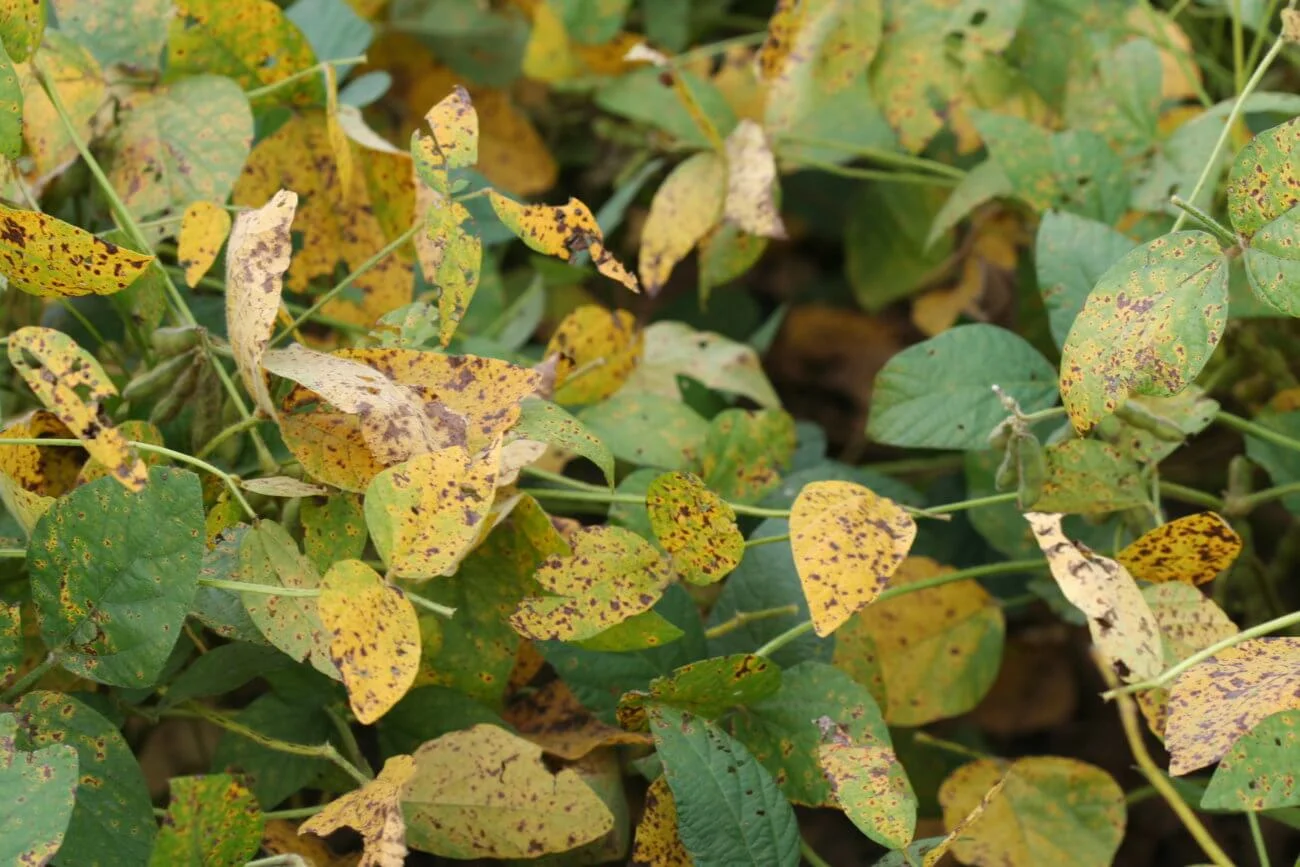healthy: (858, 323, 1058, 448)
leaf scorch(50%): (27, 464, 210, 692), (1061, 227, 1226, 433), (0, 689, 168, 866), (742, 663, 912, 823), (642, 698, 802, 866), (1196, 708, 1300, 814)
leaf scorch(90%): (271, 342, 551, 494), (817, 545, 1003, 728), (385, 723, 617, 860), (3, 327, 161, 493), (793, 474, 917, 642), (511, 517, 673, 641), (1165, 628, 1300, 771), (361, 443, 498, 582), (223, 186, 299, 429), (313, 557, 423, 722), (480, 182, 639, 291), (0, 194, 161, 300), (634, 144, 732, 297), (643, 468, 756, 590), (537, 302, 649, 408), (1118, 506, 1232, 605), (156, 765, 267, 865), (712, 120, 790, 249)
